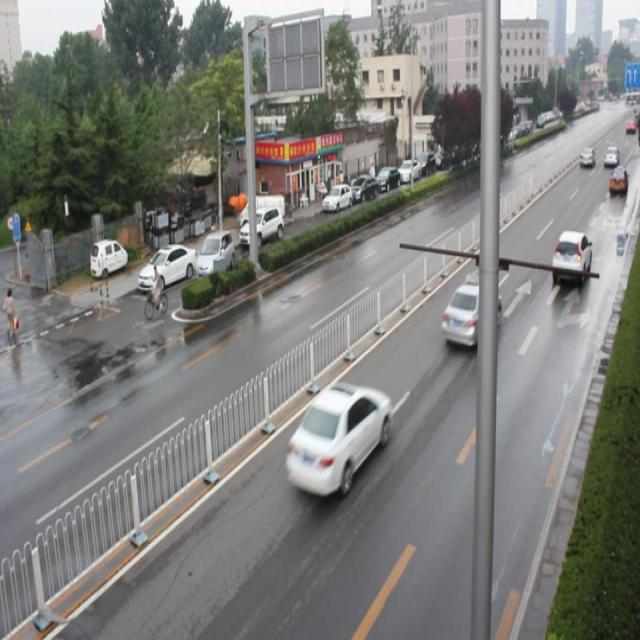car: (285, 385, 390, 500), (441, 283, 502, 351), (550, 230, 589, 286), (606, 165, 626, 195)
